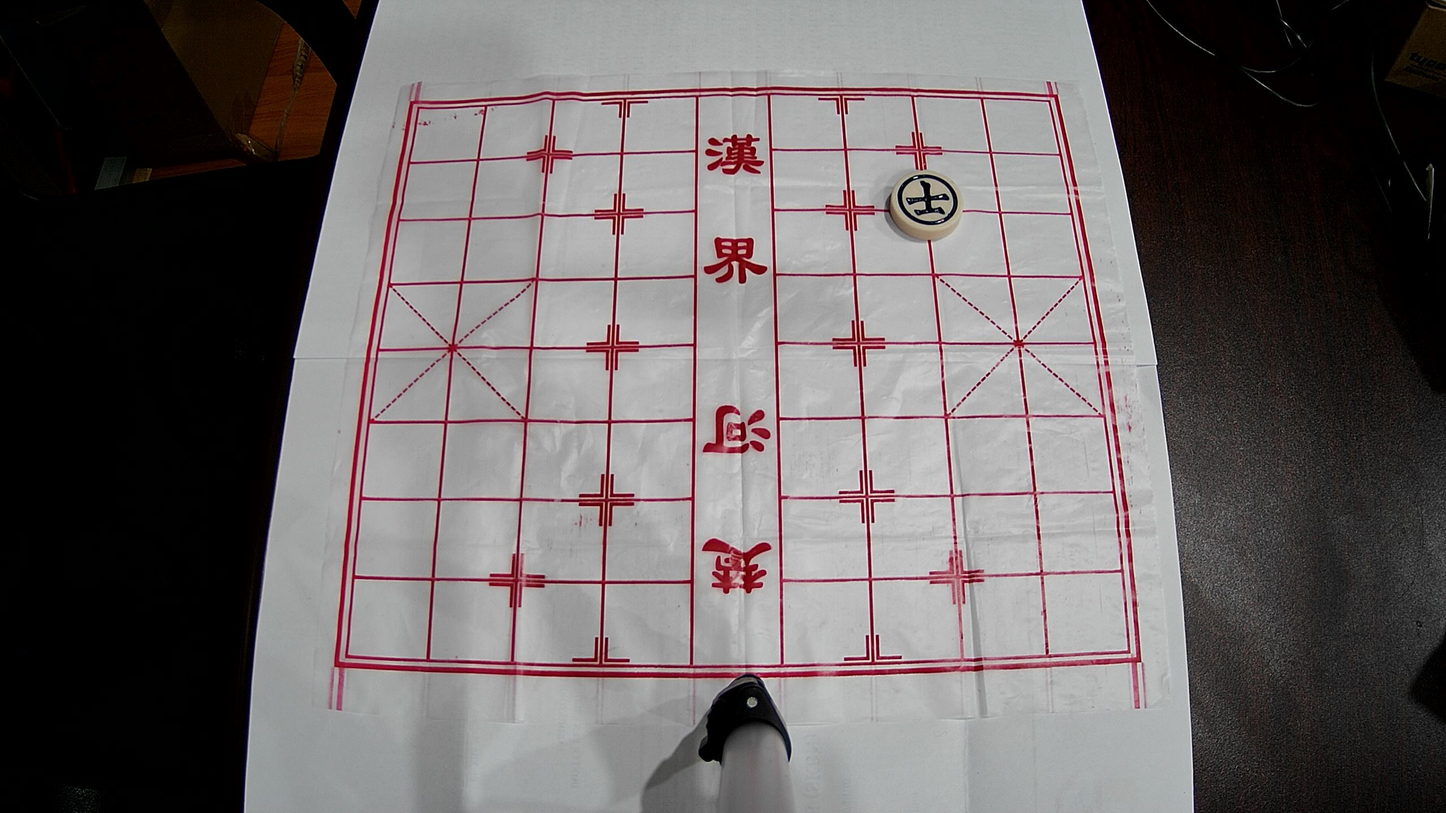Black-Guard: (890, 171, 963, 239)
